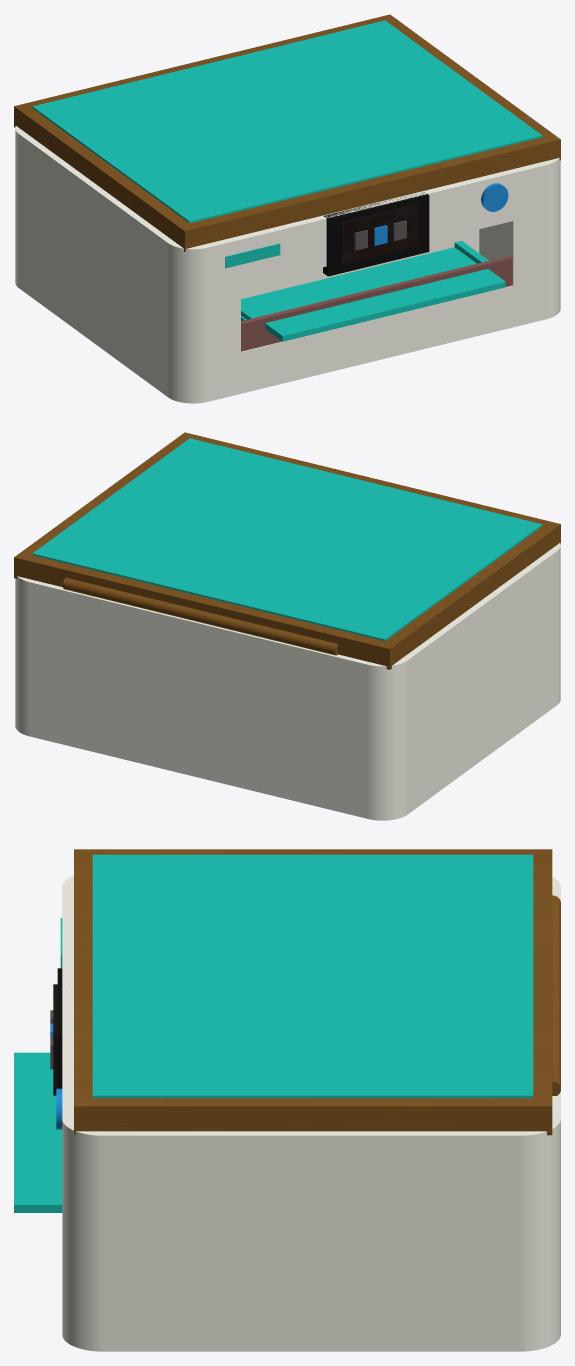
File: Technology_Printer__0084.glb
The picture shows the model from 3 angles, top to bottom: view 1: azimuth 30°, elevation 25°; view 2: azimuth 150°, elevation 25°; view 3: azimuth 270°, elevation 25°; orthographic projection. The views are drawn at different scales.
Parts seen in each view (by area): view 1: body::body_shell, scanner_lid::cover_top, scanner_lid::lid_frame, paper_stopper::stopper_flap, output_tray::tray_plate, body::output_shadow, control_panel::control_panel_bezel, control_panel::touchscreen_glass, body::brand_plate, body::badge_roundel; view 2: body::body_shell, scanner_lid::cover_top, scanner_lid::lid_frame, scanner_lid::hinge_barrel; view 3: body::body_shell, scanner_lid::cover_top, scanner_lid::lid_frame, paper_stopper::stopper_flap, scanner_lid::hinge_barrel, control_panel::control_panel_bezel.
Part boxes in pixels (x1=…): body::body_shell: x1=15, y1=126, x2=560, y2=403; scanner_lid::cover_top: x1=32, y1=20, x2=542, y2=223; scanner_lid::lid_frame: x1=14, y1=14, x2=560, y2=251; paper_stopper::stopper_flap: x1=265, y1=269, x2=505, y2=341; output_tray::tray_plate: x1=241, y1=247, x2=476, y2=321; body::output_shadow: x1=241, y1=256, x2=512, y2=351; control_panel::control_panel_bezel: x1=323, y1=192, x2=429, y2=276; control_panel::touchscreen_glass: x1=339, y1=203, x2=418, y2=265; body::brand_plate: x1=225, y1=243, x2=280, y2=268; body::badge_roundel: x1=481, y1=183, x2=508, y2=211; body::body_shell: x1=15, y1=543, x2=560, y2=820; scanner_lid::cover_top: x1=32, y1=438, x2=542, y2=641; scanner_lid::lid_frame: x1=14, y1=432, x2=560, y2=669; scanner_lid::hinge_barrel: x1=63, y1=577, x2=337, y2=655; body::body_shell: x1=62, y1=875, x2=560, y2=1351; scanner_lid::cover_top: x1=92, y1=854, x2=533, y2=1098; scanner_lid::lid_frame: x1=74, y1=849, x2=552, y2=1135; paper_stopper::stopper_flap: x1=14, y1=1052, x2=62, y2=1212; scanner_lid::hinge_barrel: x1=552, y1=895, x2=560, y2=1095; control_panel::control_panel_bezel: x1=57, y1=968, x2=62, y2=1088.
Size of the model in its own units: 0.4305 by 0.1842 by 0.3747.
Materials: 9 (5 with a texture image).
